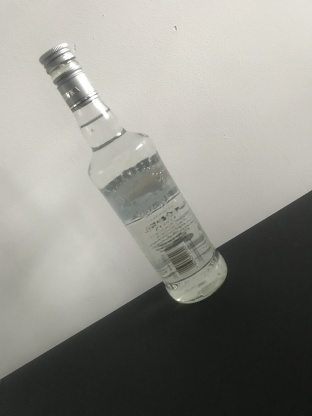nakretka: (37, 41, 100, 113)
